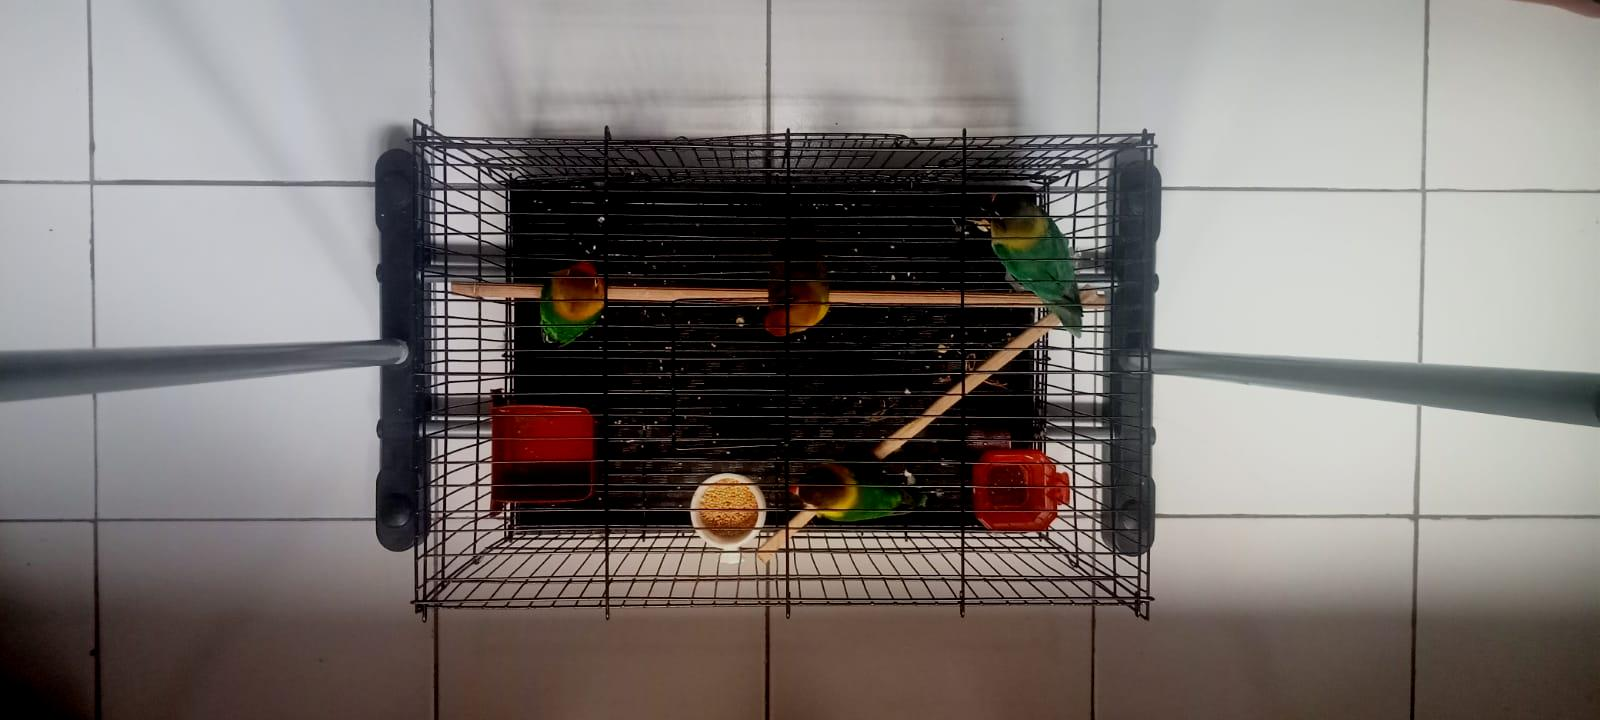LoveBird: (981, 188, 1085, 337), (790, 458, 927, 523), (765, 219, 830, 337), (538, 259, 606, 352)
